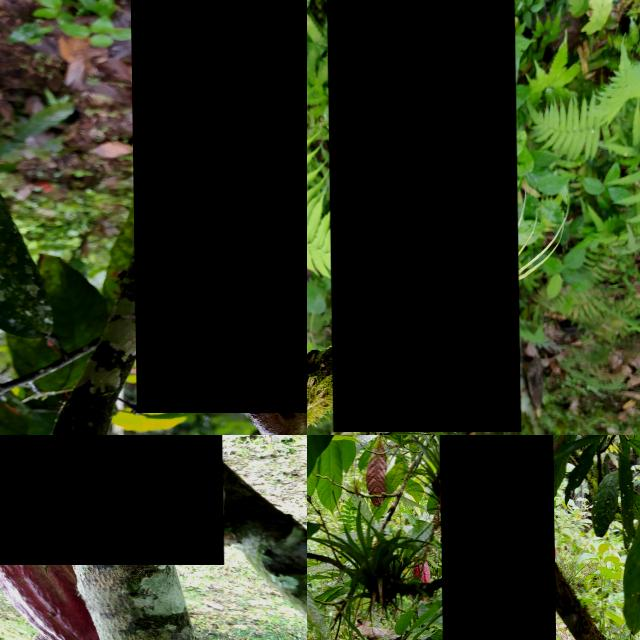Fitoftora: (326, 0, 519, 431), (0, 435, 222, 564)
Monilia: (130, 0, 307, 413)
Sana: (438, 435, 555, 640), (0, 528, 96, 640)
